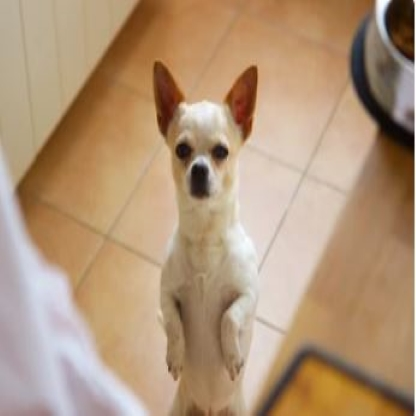chihuahua: (150, 58, 264, 415)
